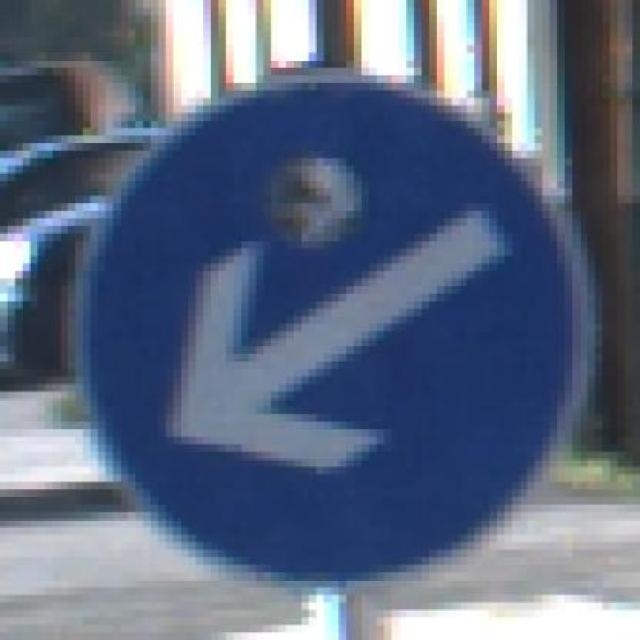Keep-Left: (68, 52, 603, 603)
